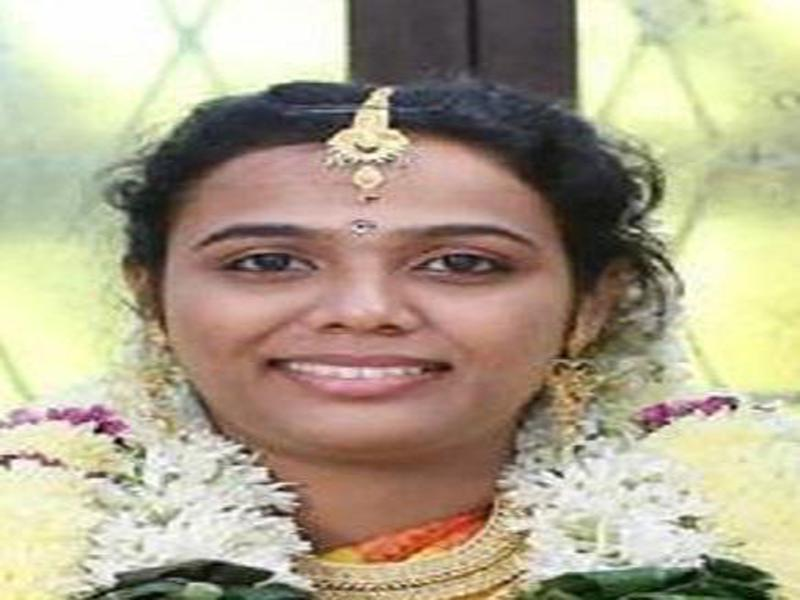without_mask: (166, 138, 548, 468)
